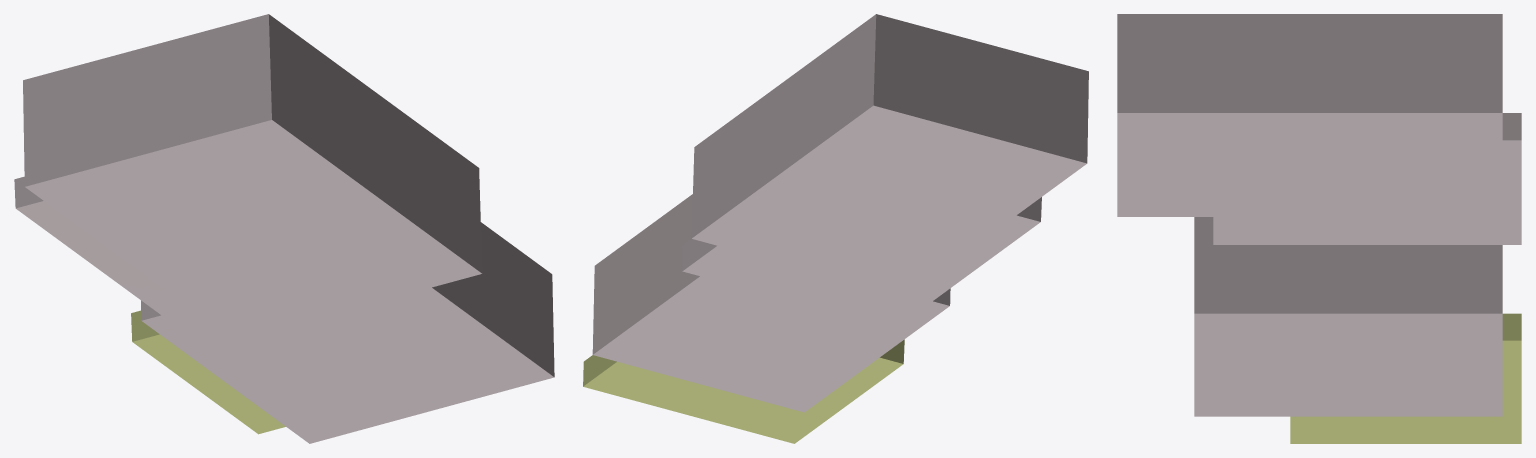
The picture shows the model from 3 angles, left to right: view 1: azimuth 30°, elevation 25°; view 2: azimuth 150°, elevation 25°; view 3: azimuth 270°, elevation 25°; orthographic projection. The views are drawn at different scales.
Visible parts, largest first — view 1: 0_2_1_0_0_0_0_0_1_0_0; view 2: 0_2_1_0_0_0_0_0_1_0_0; view 3: 0_2_1_0_0_0_0_0_1_0_0.
Part boxes in pixels (x1,y1,x2,y2): 0_2_1_0_0_0_0_0_1_0_0: [14, 14, 554, 443]; 0_2_1_0_0_0_0_0_1_0_0: [583, 14, 1088, 443]; 0_2_1_0_0_0_0_0_1_0_0: [1117, 14, 1521, 443].
Size of the model in its own units: 15 by 11.99 by 15.74.
